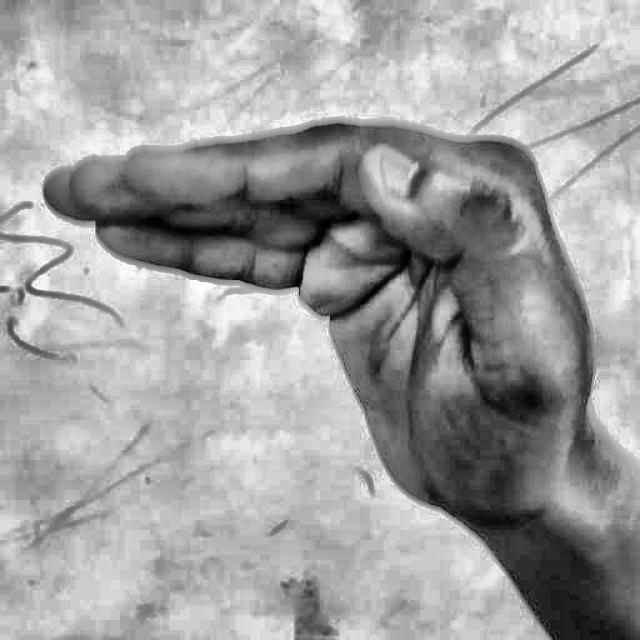Ga: (33, 63, 622, 573)
